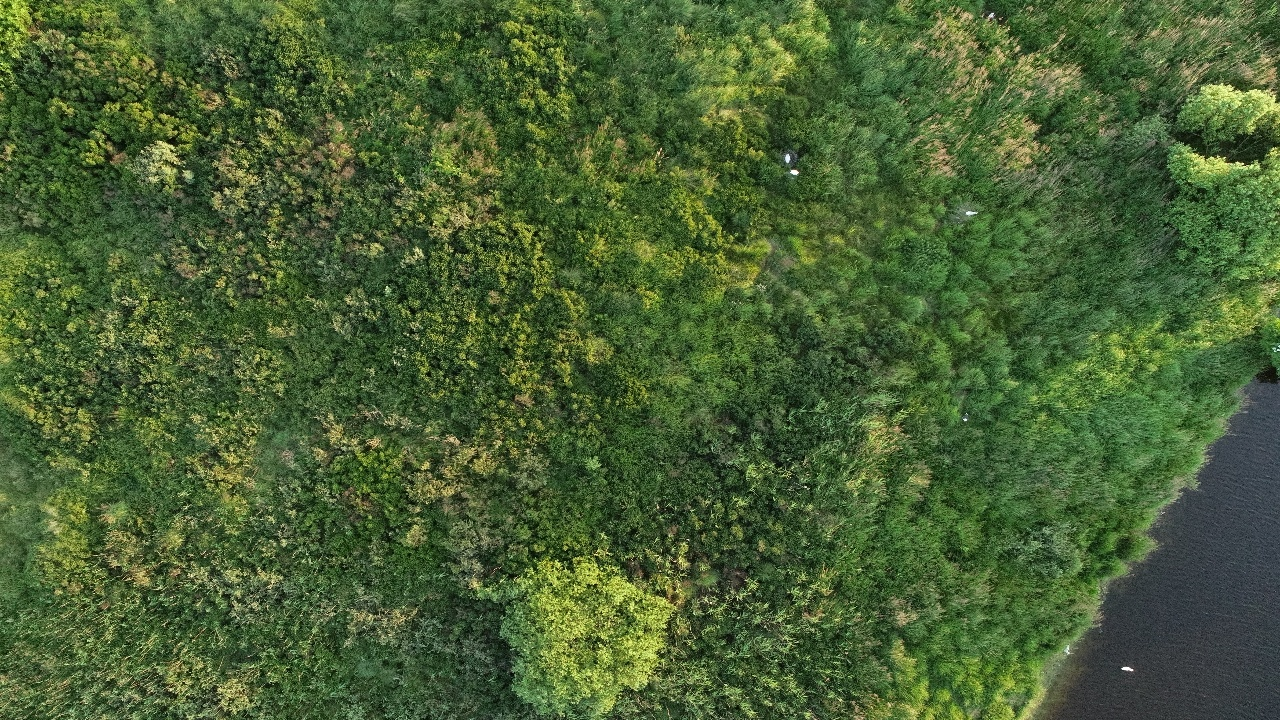Bird: (979, 5, 1005, 22), (962, 203, 982, 221), (957, 407, 977, 425), (1119, 662, 1139, 680), (1059, 641, 1079, 659), (780, 149, 797, 165), (787, 163, 804, 179)
